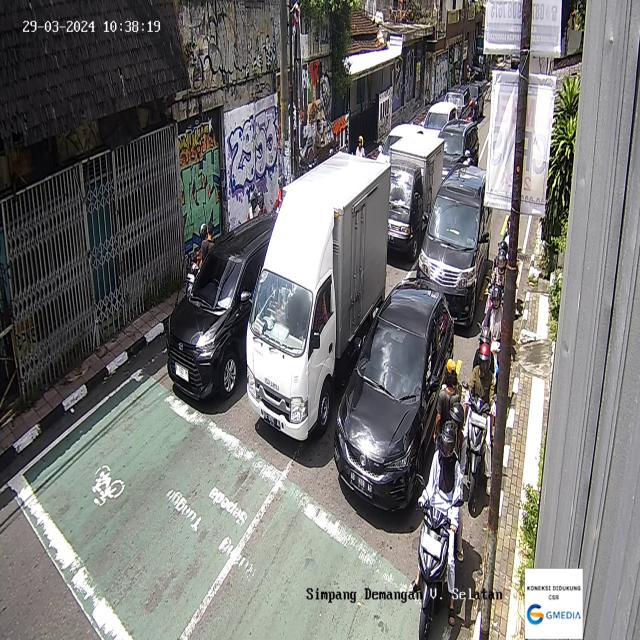car: (334, 277, 454, 513), (165, 212, 277, 403), (417, 162, 492, 328), (437, 118, 480, 180), (423, 99, 457, 131), (446, 84, 472, 121)
motorcycle: (416, 402, 466, 638), (460, 325, 497, 517), (184, 220, 213, 293)
truck: (245, 150, 391, 442), (386, 132, 444, 259)
